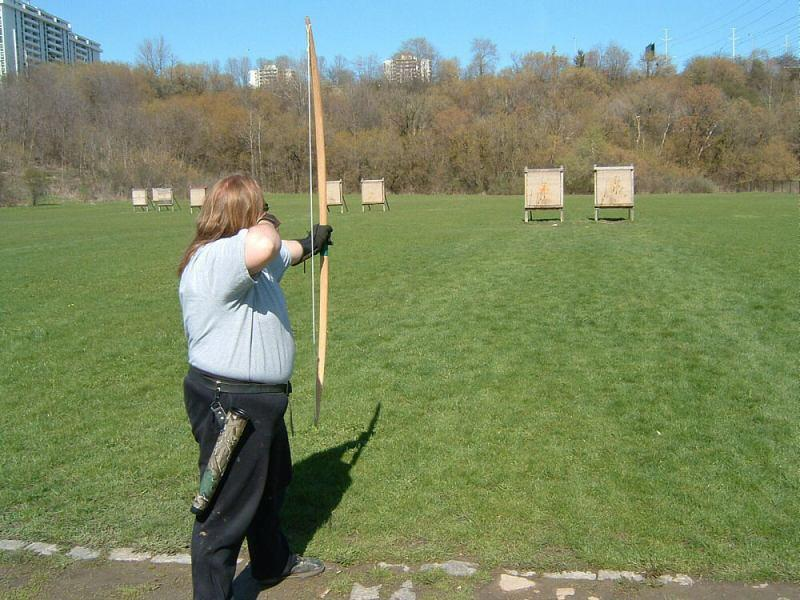person: (178, 177, 333, 598)
